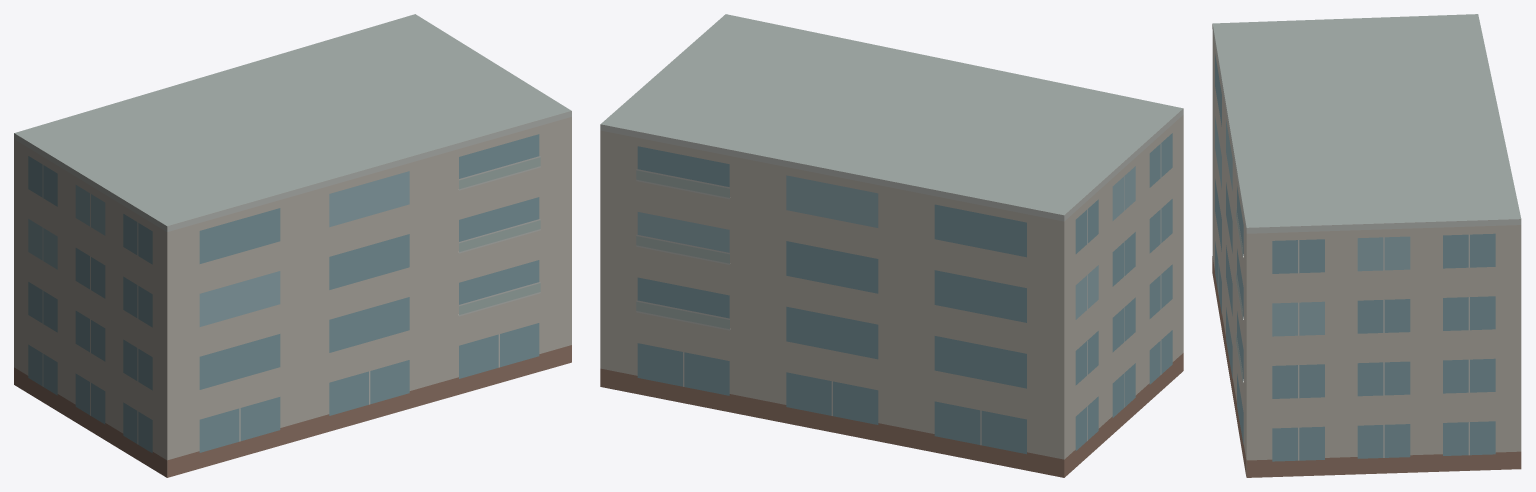
File: survey-upis-32758387.glb
3 views of the same model, side by side, from view 1: azimuth 30°, elevation 25°; view 2: azimuth 150°, elevation 25°; view 3: azimuth 270°, elevation 25° (orthographic). The views are drawn at different scales.
Parts seen in each view (by area): view 1: survey-upis-32758387.tmp; view 2: survey-upis-32758387.tmp; view 3: survey-upis-32758387.tmp.
Part boxes in pixels (<box>): survey-upis-32758387.tmp: <box>14,14,571,477</box>; survey-upis-32758387.tmp: <box>600,14,1183,477</box>; survey-upis-32758387.tmp: <box>1212,14,1521,477</box>.
Size of the model in its own units: 18.81 by 10.25 by 11.48.
